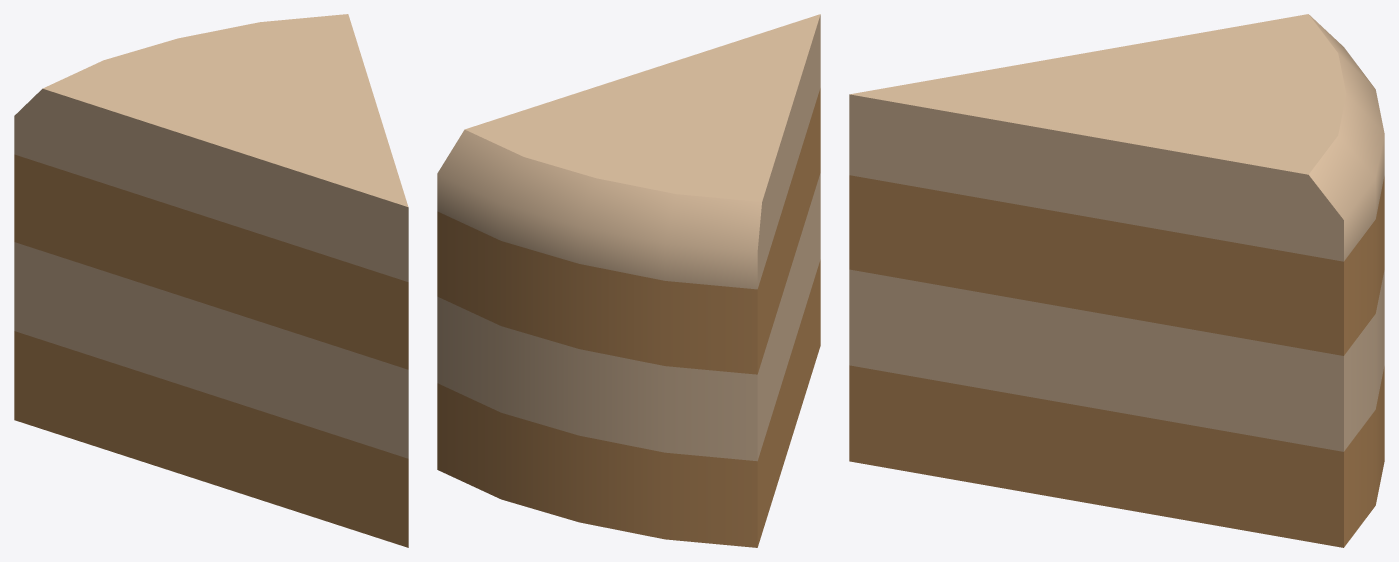
File: CakeSlice_02.fbx
3 views of the same model, side by side, from view 1: azimuth 30°, elevation 25°; view 2: azimuth 150°, elevation 25°; view 3: azimuth 270°, elevation 25° (orthographic). The views are drawn at different scales.
Parts seen in each view (by area): view 1: CakeSlice_02; view 2: CakeSlice_02; view 3: CakeSlice_02.
Boxes of the visible parts, x1=… form: CakeSlice_02: x1=14, y1=14, x2=408, y2=547; CakeSlice_02: x1=437, y1=14, x2=820, y2=547; CakeSlice_02: x1=849, y1=14, x2=1384, y2=547.
Bounding box in the file's own units: 0.087 × 0.0861 × 0.1137.
